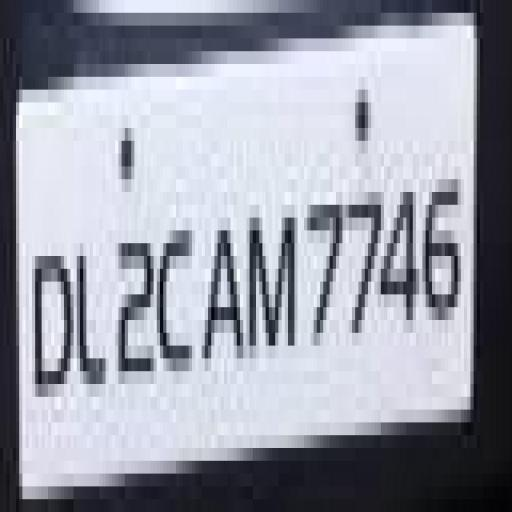number plate: (12, 13, 479, 499)
